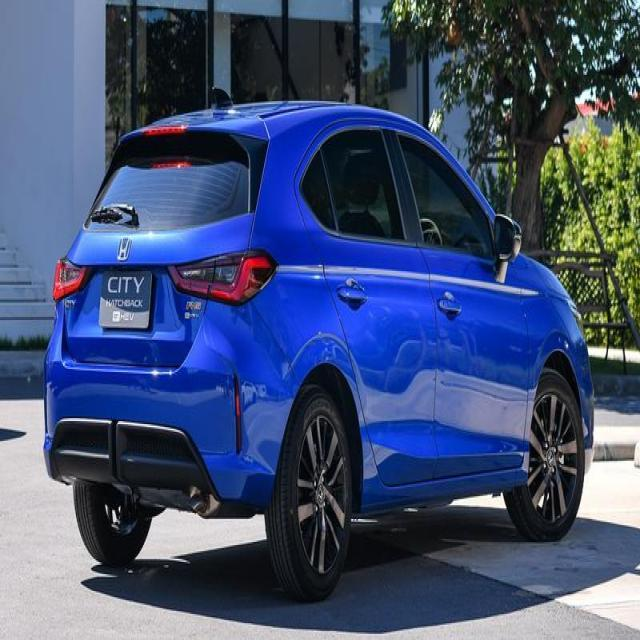Hatchback: (42, 101, 597, 605)
